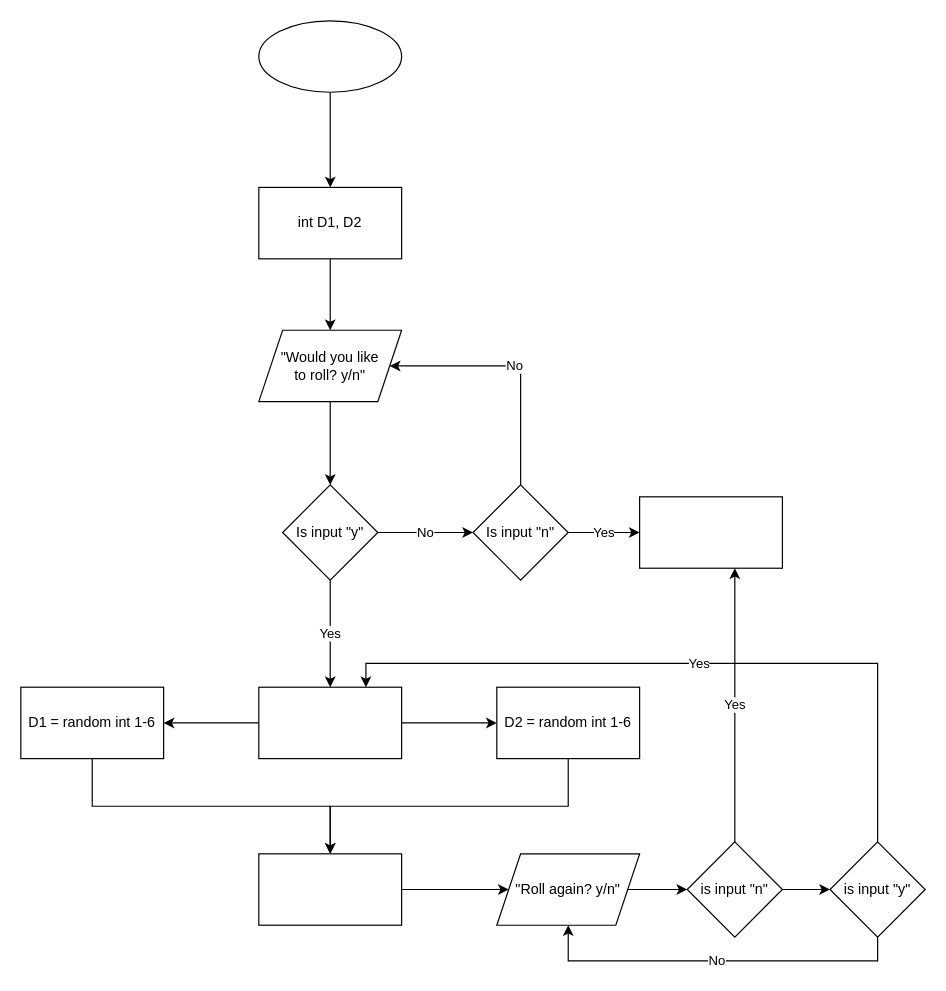
The diagram is 946 pixels wide and 991 high, and some of its shapes have lost their labels. Here are the shapes that lost their labels. From the top down, the box of each, then its label:
(258, 20, 402, 92): Start
(638, 496, 782, 568): quit
(258, 686, 402, 759): "Rolling..."
(258, 853, 402, 925): roll = D1 + D2
